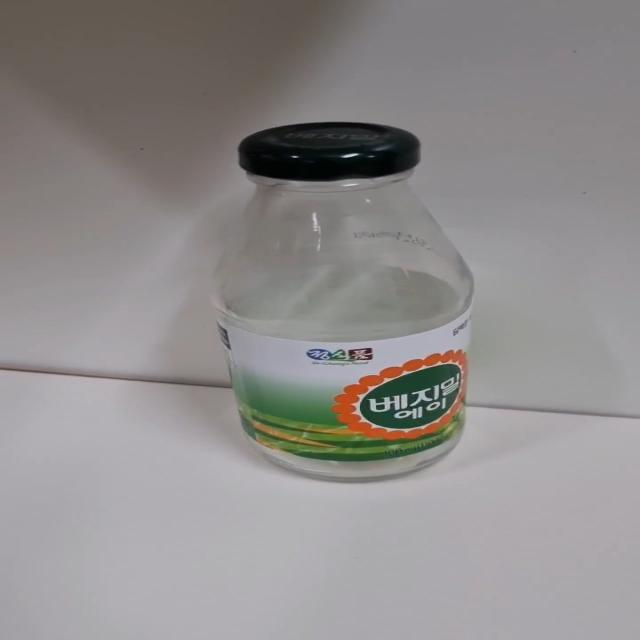Glass: (218, 119, 477, 482)
